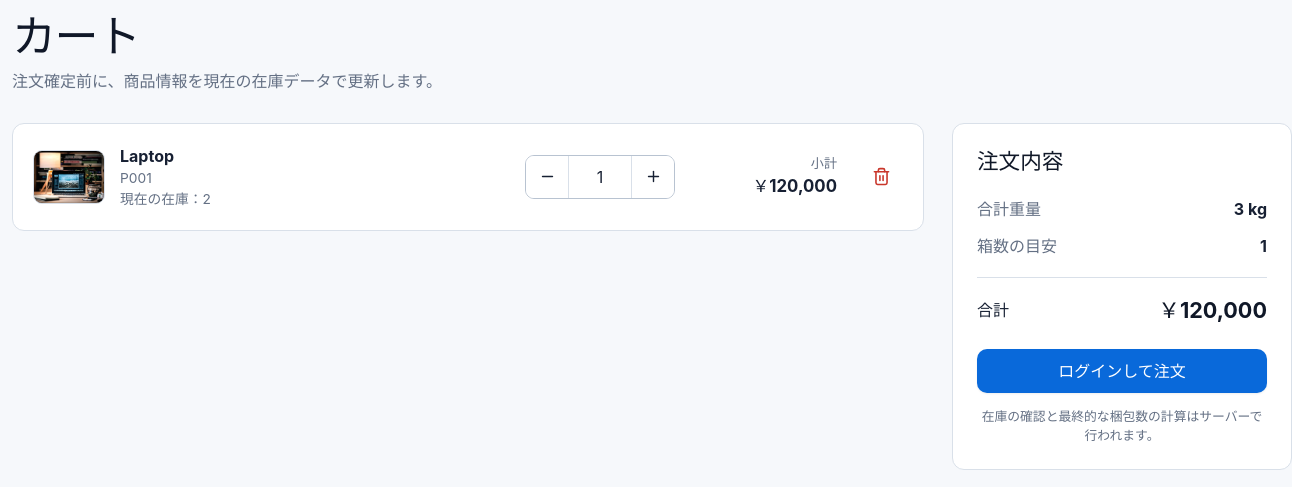
Test: CartPage › rejects invalid quantity without changing the cart in ja
Clear the number field named "Laptopの数量". click: point(600, 177)
box: [568,156,632,198]
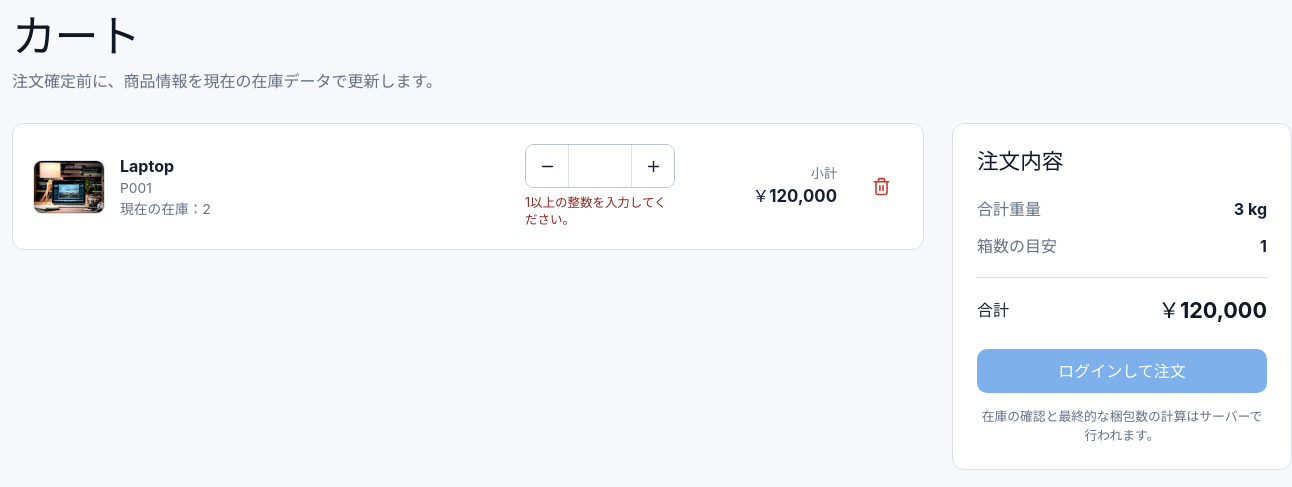
expect the message reads "1以上の整数を入力してください。": met, box [525,195,666,227]
Type "0" into the number field named "Laptopの数量". click: point(600, 166)
box: [568,145,632,187]
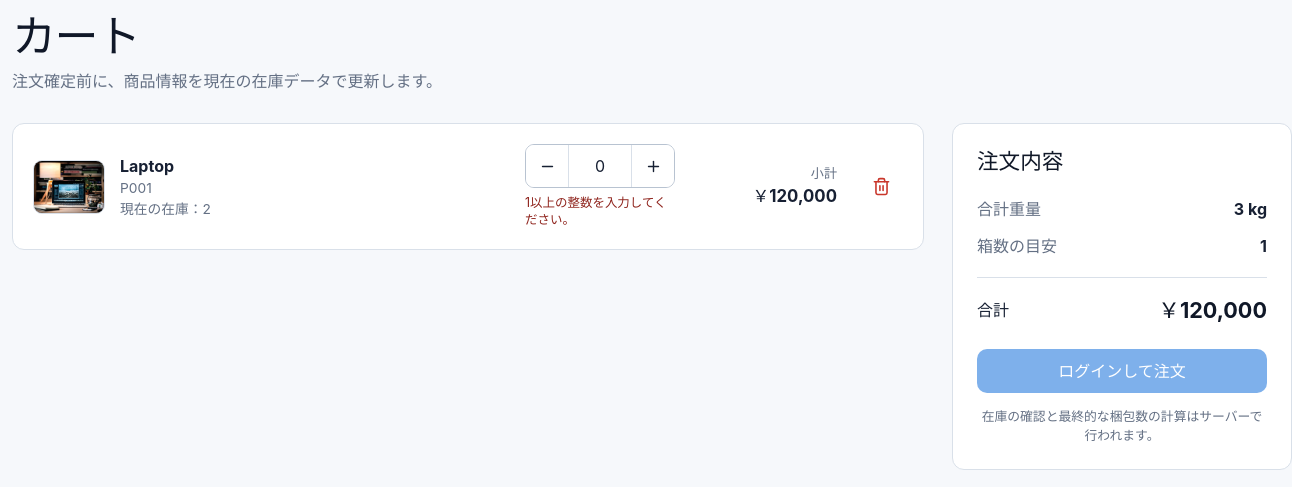
expect the message reads "1以上の整数を入力してください。": met, box [525,195,666,227]
Replace the text in the number field named "Laptopの数量" with "-1". click: point(600, 166)
box: [568,145,632,187]
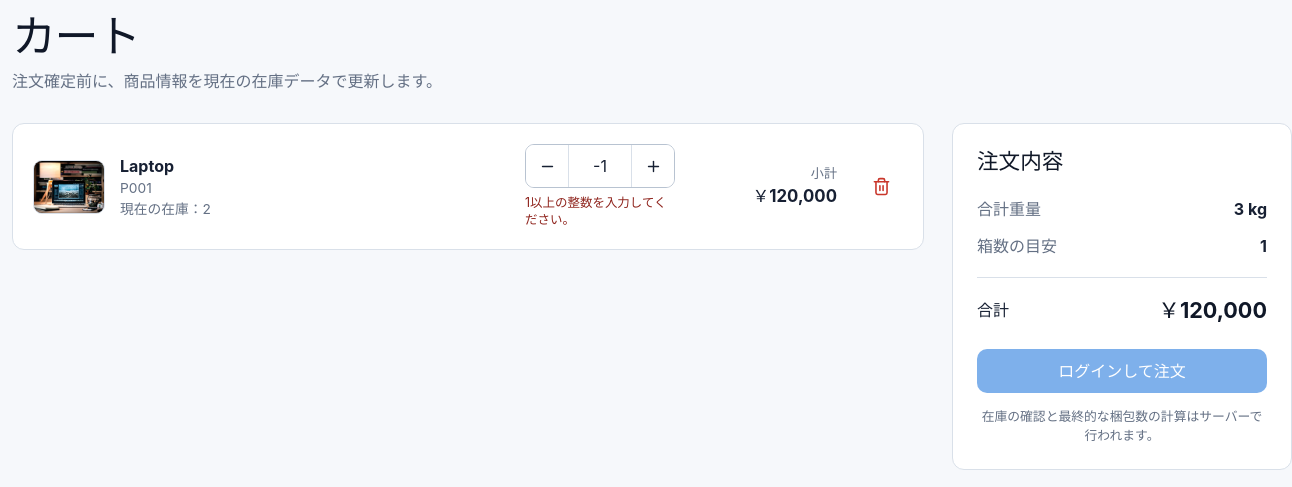
expect the message reads "1以上の整数を入力してください。": met, box [525,195,666,227]
Replace the text in the number field named "Laptopの数量" with "1.5". click: point(600, 166)
box: [568,145,632,187]
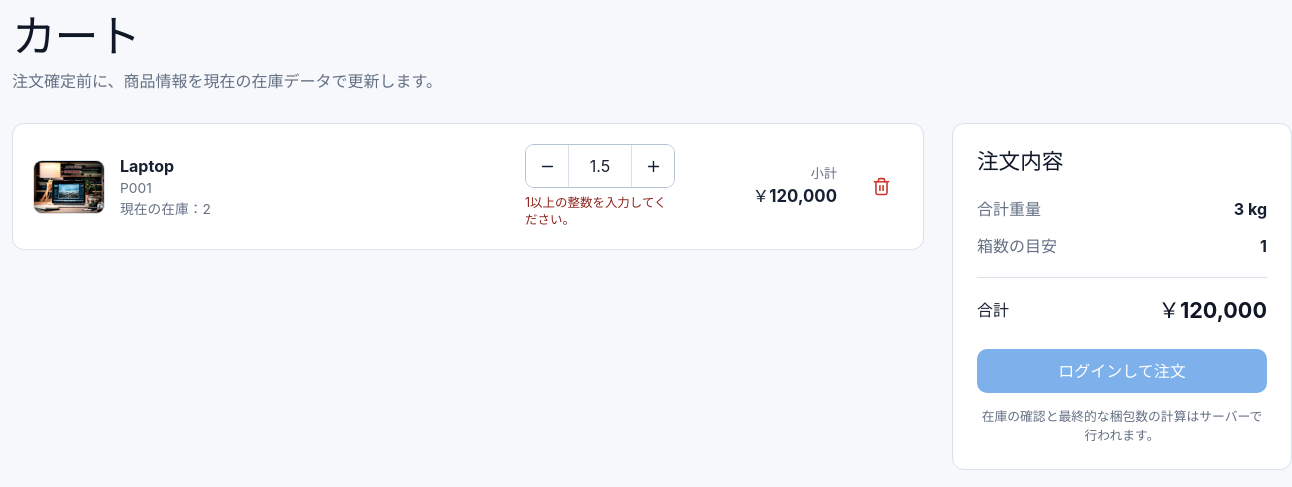
expect the message reads "1以上の整数を入力してください。": met, box [525,195,666,227]
Replace the text in the number field named "Laptopの数量" with "2". click: point(600, 166)
box: [568,145,632,187]
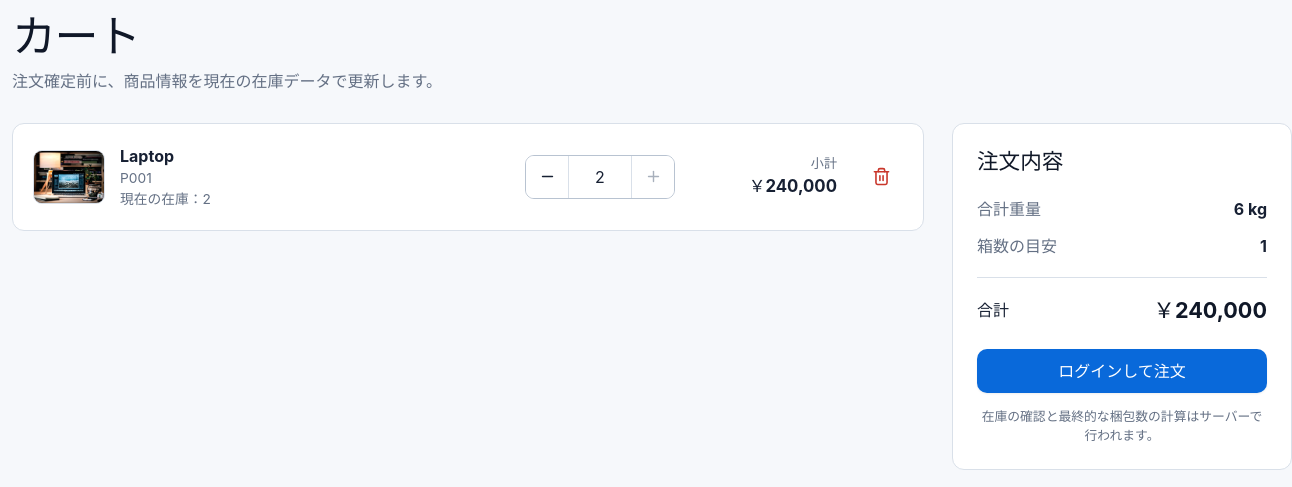
expect the message "1以上の整数を入力してください。" is gone: met
